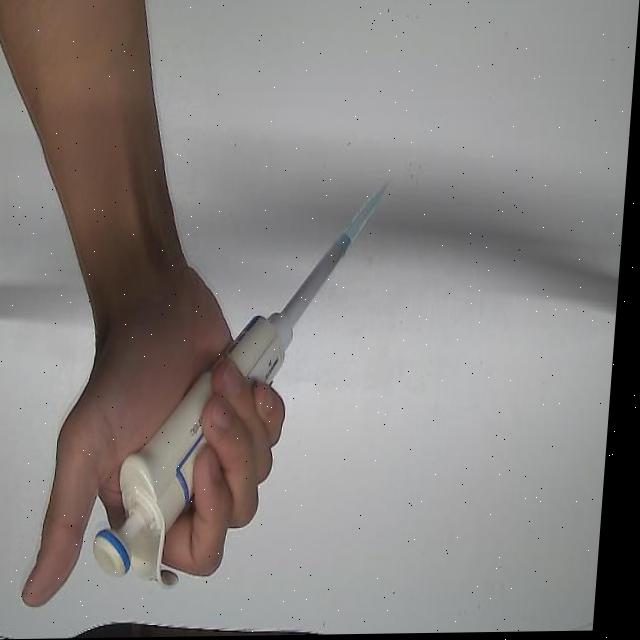Single Channel Pipettor: (97, 230, 356, 590)
